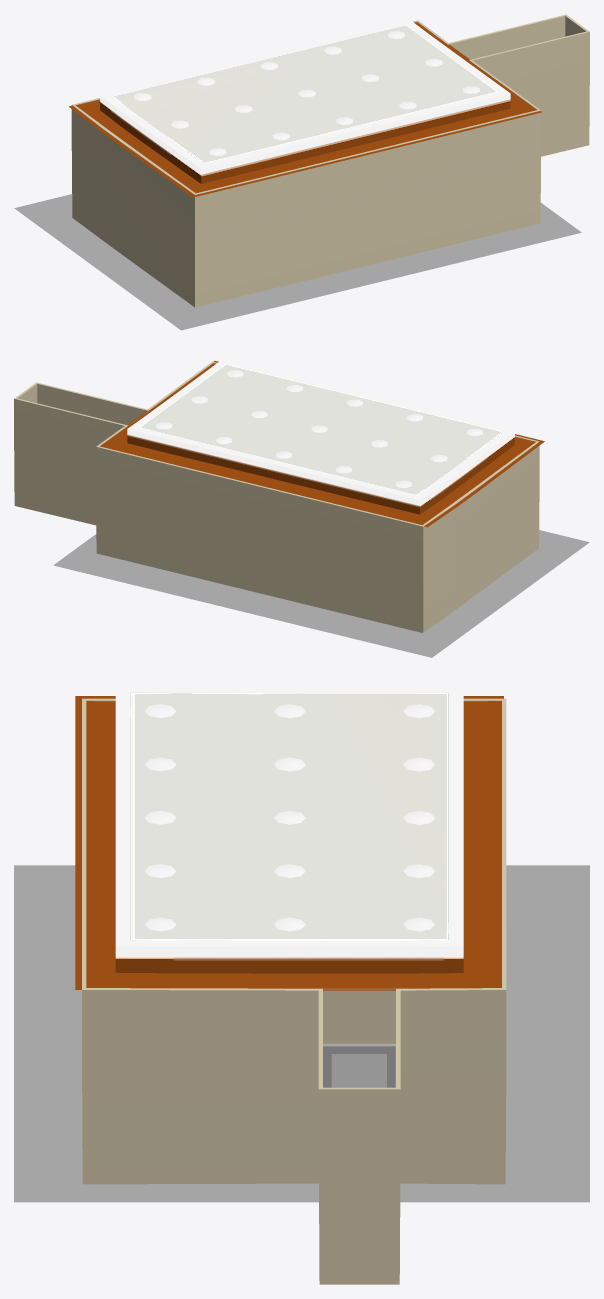
Rendered from Fume Hood Room Eksport.fbx.
3 renders of one model, top to bottom at view 1: azimuth 30°, elevation 25°; view 2: azimuth 150°, elevation 25°; view 3: azimuth 270°, elevation 25°, orthographic. The views are drawn at different scales.
Parts seen in each view (by area): view 1: Tembok, Atap, Plane.002; view 2: Tembok, Atap, Plane.002; view 3: Atap, Tembok, Plane.002, Plane.008.
Part boxes in pixels (x1=…): Tembok: x1=71, y1=14, x2=589, y2=307; Atap: x1=69, y1=19, x2=541, y2=197; Plane.002: x1=14, y1=194, x2=581, y2=330; Tembok: x1=14, y1=361, x2=539, y2=632; Atap: x1=100, y1=359, x2=544, y2=527; Plane.002: x1=53, y1=530, x2=589, y2=657; Atap: x1=75, y1=686, x2=503, y2=990; Tembok: x1=82, y1=698, x2=506, y2=1284; Plane.002: x1=14, y1=865, x2=589, y2=1202; Plane.008: x1=323, y1=1044, x2=395, y2=1087.
Size of the model in its own units: 3167 by 786 by 1843.
18 materials, 17 textured.
